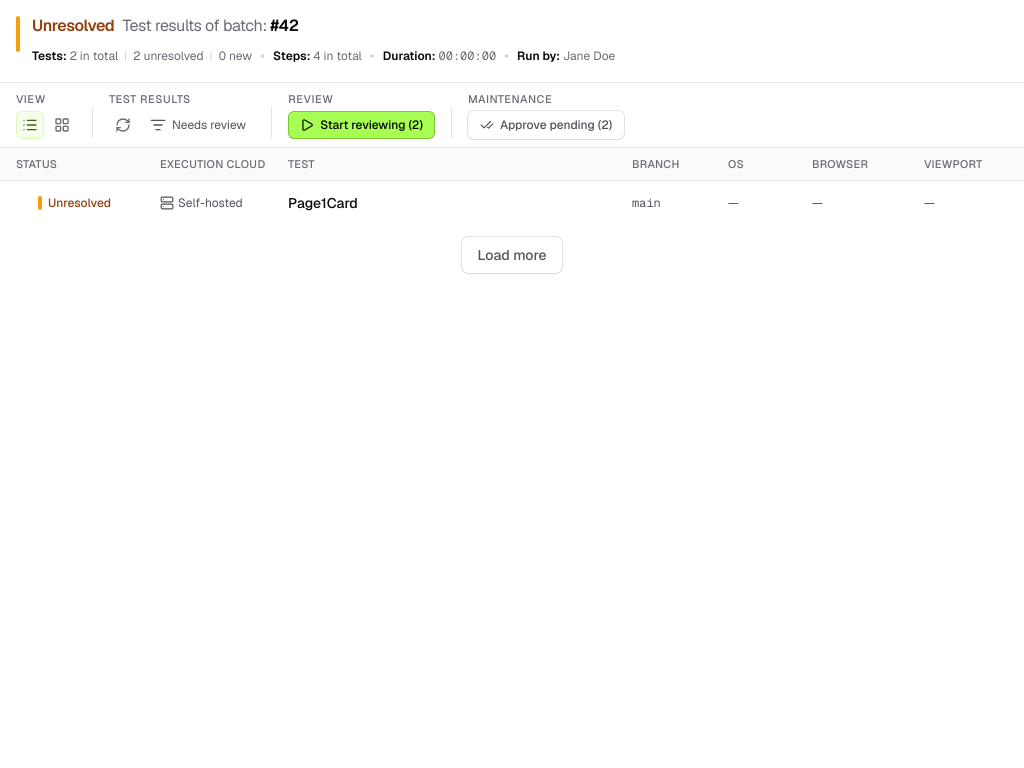
it: BatchPage › after the batch is approved the dialog closes and the list starts over from its first page
The width and height of the screenshot is (1024, 768).
Expected: the text "Page1Card" is shown, [288,194,358,212]
Click the button "Load more": (512, 255) [462,237,562,273]
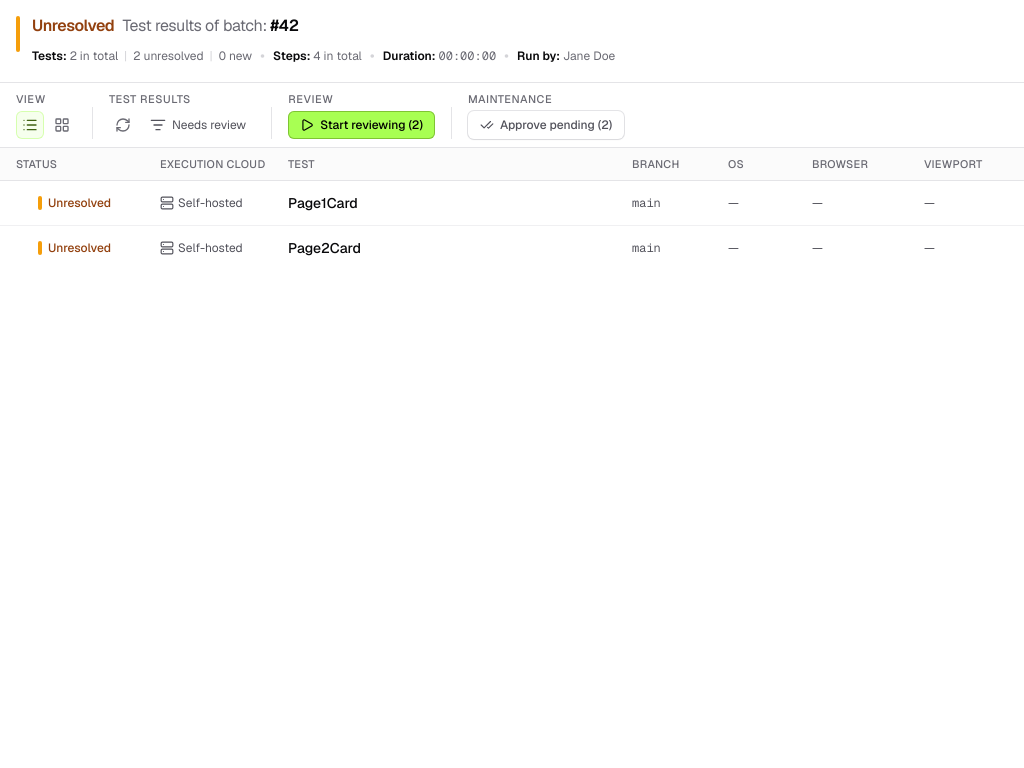
Expected: the text "Page2Card" is shown, [288,239,361,257]
Click the button with test id "batch-approve-all": (546, 125) [468,111,624,139]
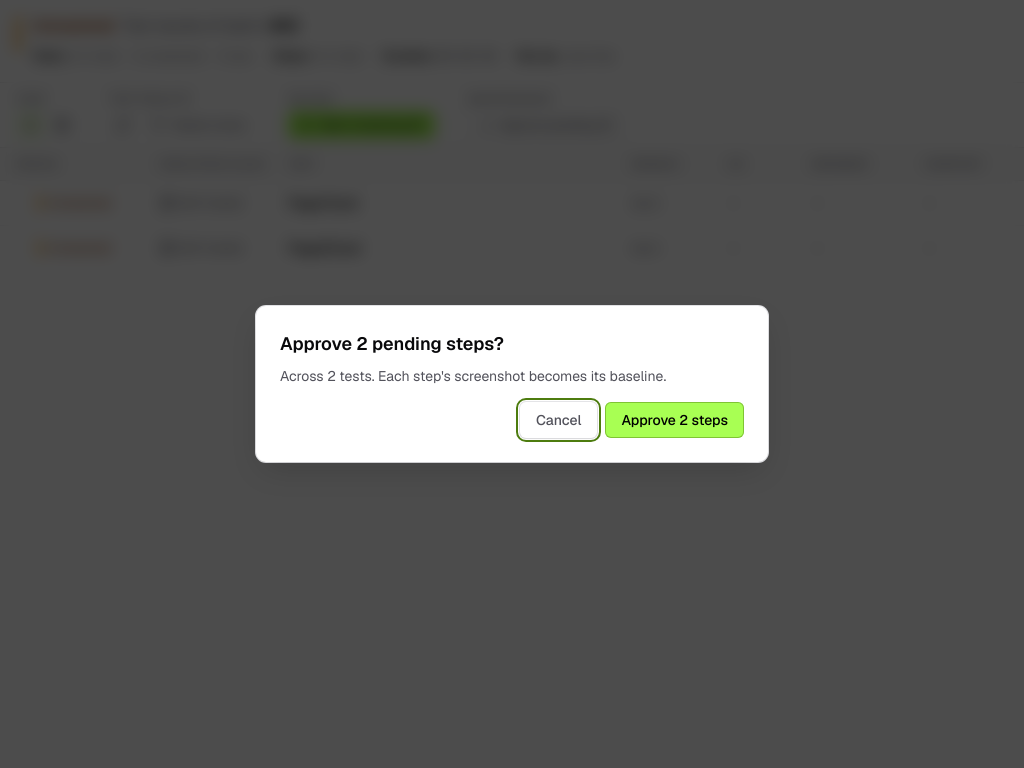
Click the button with test id "approve-pending-confirm": (675, 420) [606,402,744,438]
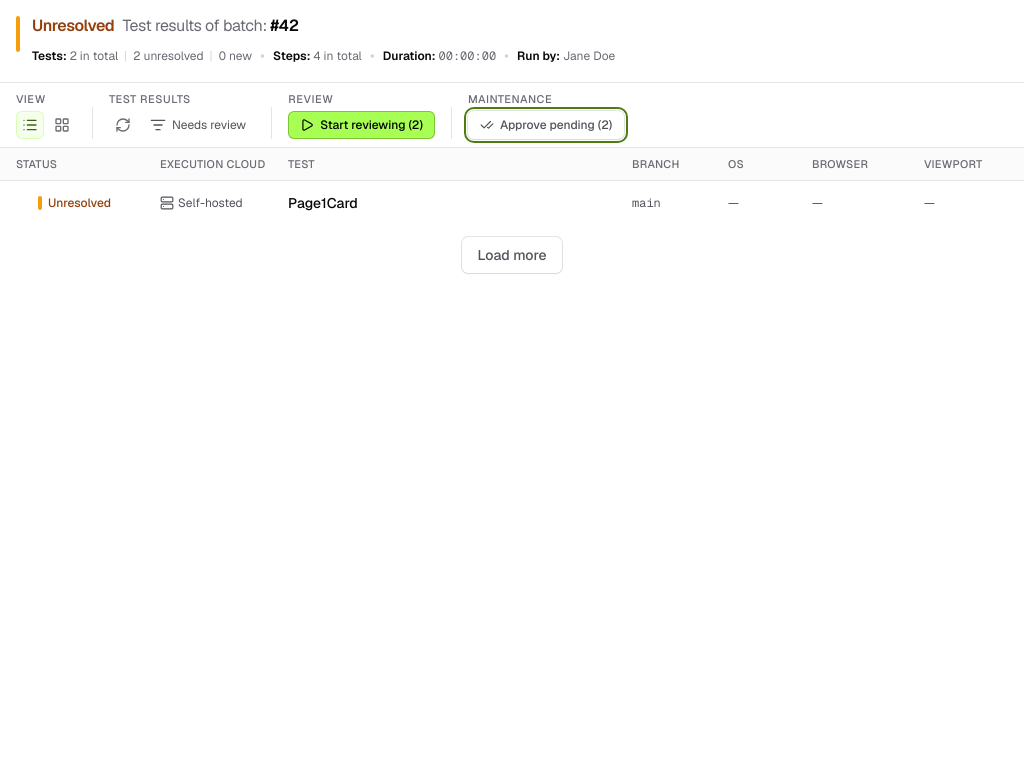
Expected: the dialog is gone
Expected: the button "Page2Card" is gone
